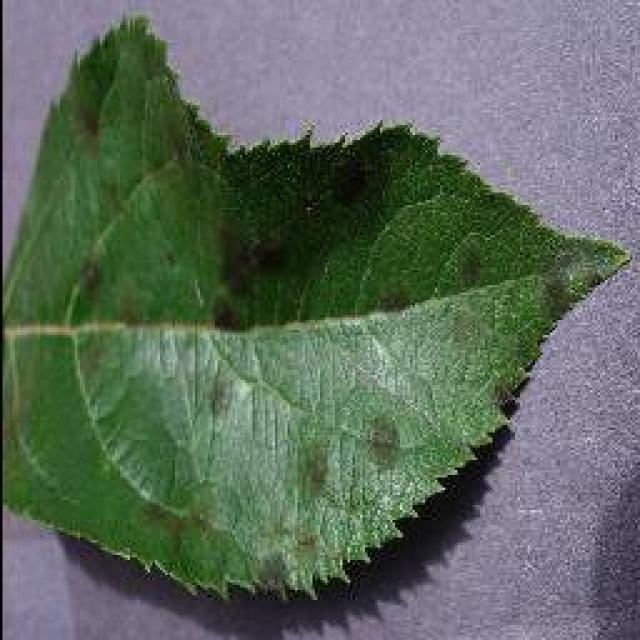apple scab disease: (0, 12, 632, 602)
